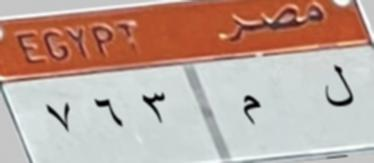3: (137, 88, 174, 135)
6: (92, 94, 126, 136)
7: (44, 101, 73, 136)
laam: (320, 59, 356, 117)
meem: (236, 90, 268, 134)
